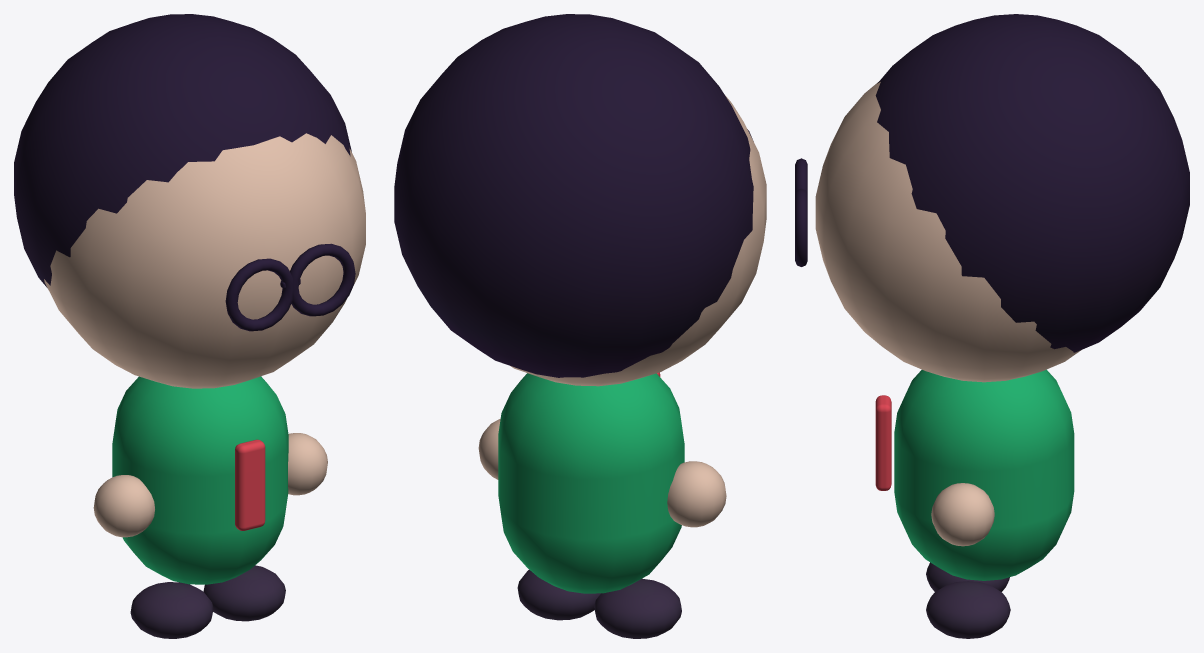
Rendered from human-glasses.glb.
3 renders of one model, left to right at view 1: azimuth 30°, elevation 25°; view 2: azimuth 150°, elevation 25°; view 3: azimuth 270°, elevation 25°, orthographic. The views are drawn at different scales.
Parts seen in each view (by area): view 1: humanGlasses; view 2: humanGlasses; view 3: humanGlasses.
Boxes of the visible parts, x1=… form: humanGlasses: x1=14, y1=14, x2=365, y2=638; humanGlasses: x1=394, y1=14, x2=766, y2=638; humanGlasses: x1=795, y1=14, x2=1189, y2=638.
Size of the model in its own units: 0.6564 by 1.22 by 0.7451.
